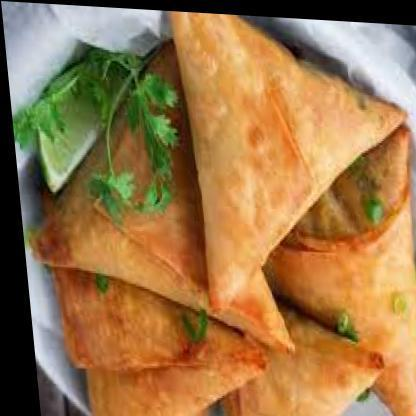samosa: (9, 28, 286, 348), (168, 8, 416, 325), (246, 110, 416, 416), (48, 264, 269, 416), (205, 294, 383, 416)
